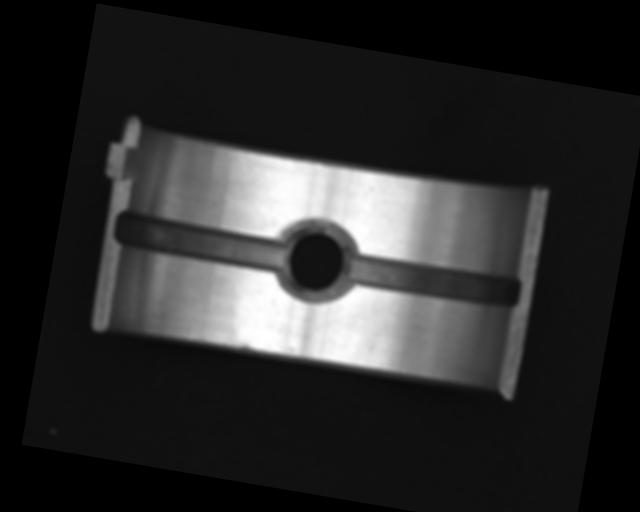gap: (339, 246, 524, 315), (112, 207, 290, 275)
hole: (273, 216, 360, 305)
nick: (400, 353, 411, 374)
